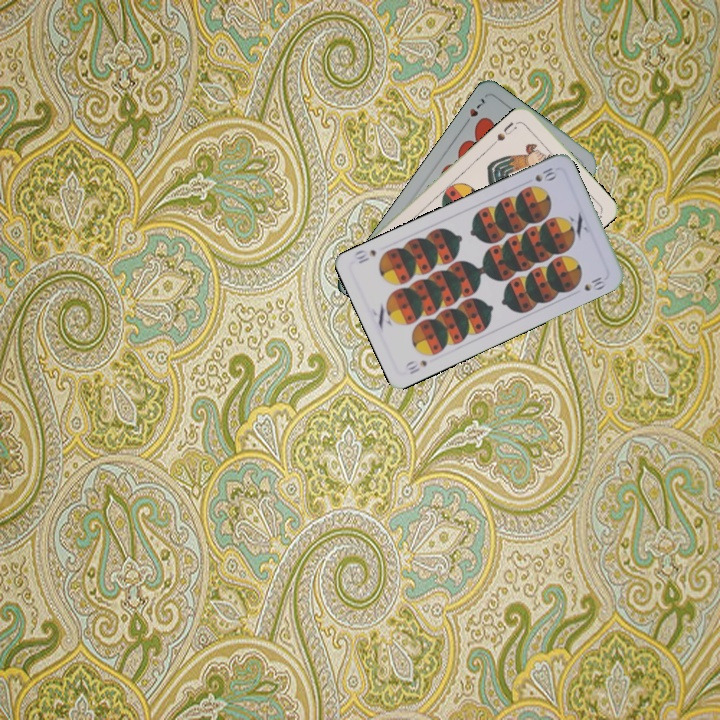H7: (460, 94, 489, 128)
S10: (531, 163, 560, 185), (401, 356, 430, 377)
SU: (489, 118, 519, 147)
